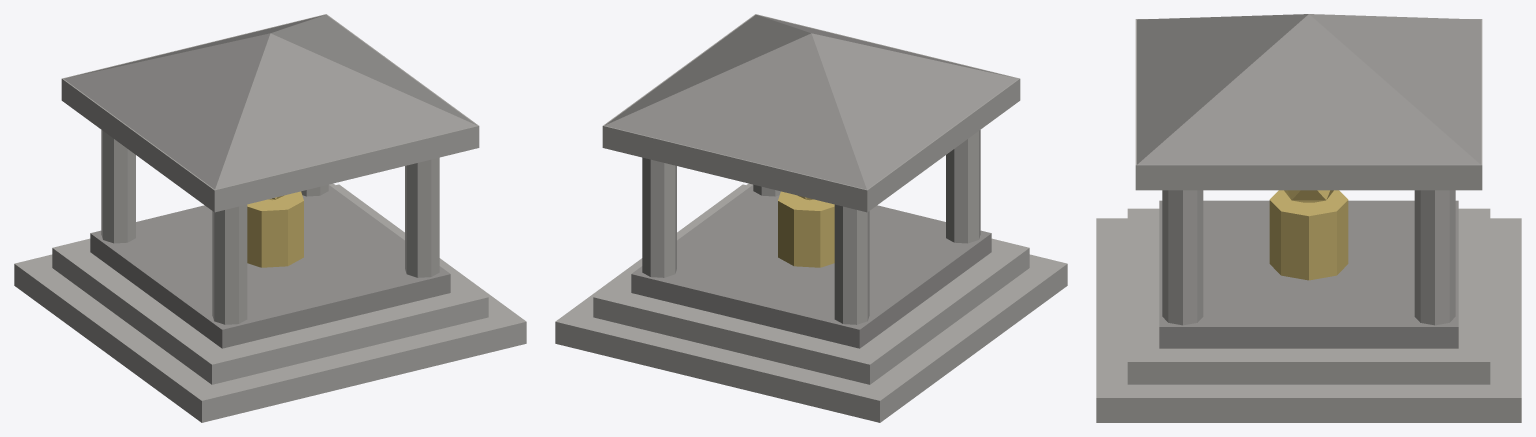
File: temple.glb
3 renders of one model, left to right at view 1: azimuth 30°, elevation 25°; view 2: azimuth 150°, elevation 25°; view 3: azimuth 270°, elevation 25°, orthographic. The views are drawn at different scales.
Visible parts, largest first — view 1: temple; view 2: temple; view 3: temple.
Boxes of the visible parts, x1,y1,x2,y2 form: temple: [14, 14, 526, 422]; temple: [555, 14, 1067, 422]; temple: [1096, 14, 1521, 422].
Bounding box in the file's own units: 5.4 × 4.47 × 5.4.
